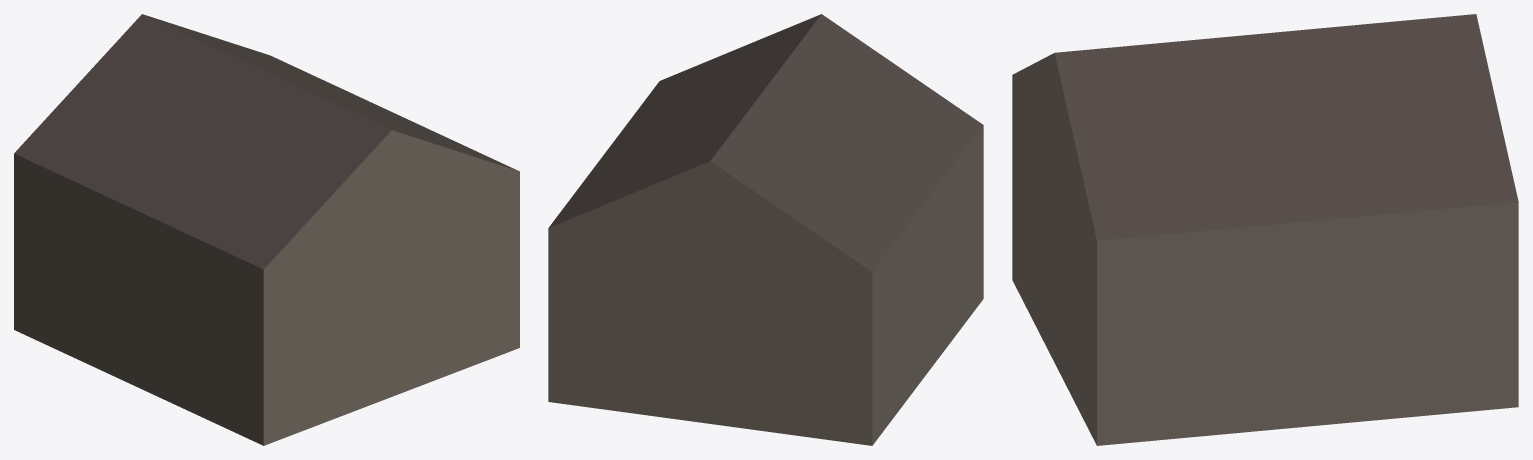
3 views of the same model, side by side, from view 1: azimuth 30°, elevation 25°; view 2: azimuth 150°, elevation 25°; view 3: azimuth 270°, elevation 25° (orthographic). The views are drawn at different scales.
Parts seen in each view (by area): view 1: HP-w1200750004; view 2: HP-w1200750004; view 3: HP-w1200750004.
Part boxes in pixels (x1,y1,x2,y2): HP-w1200750004: (14, 14, 519, 445); HP-w1200750004: (548, 14, 983, 445); HP-w1200750004: (1012, 14, 1518, 445).
Size of the model in its own units: 19.28 by 13.61 by 20.15.
